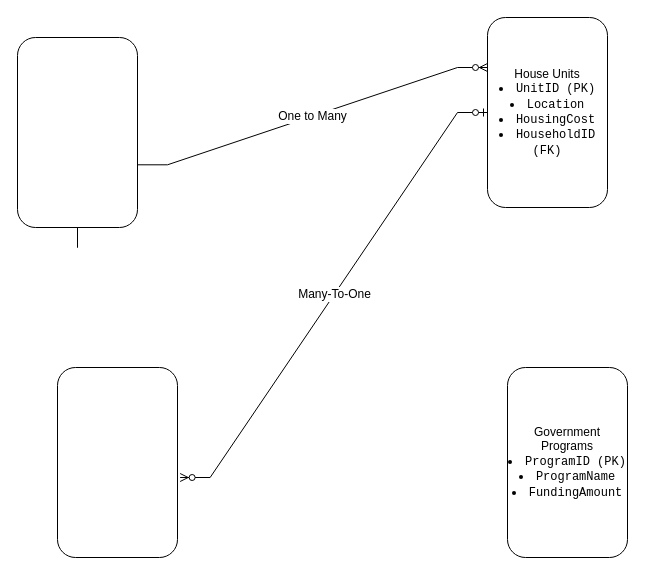
The diagram is 645 pixels wide and 575 high, and some of its shapes have lost their labels. The centre of each missing label's shape, as x and y in pixels:
"Households HouseholdID (PK) HeadOfHousehold IncomeLevel FamilySize" belongs at pixel 77 132.
"Safety Reports ReportID (PK) IncidentType Severity Date UnitID (FK)" belongs at pixel 117 462.
